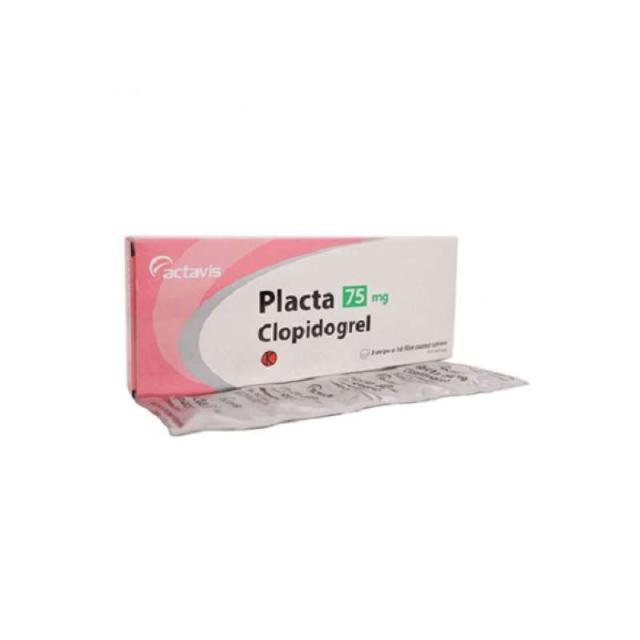drug-name: (256, 284, 369, 314)
